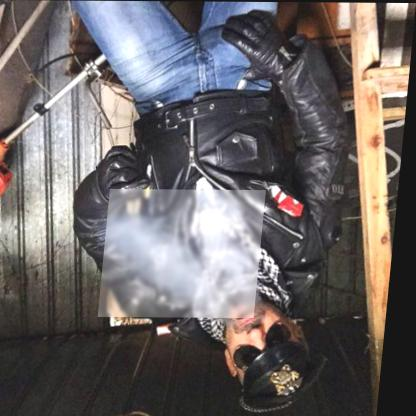smoke: (105, 189, 270, 318)
